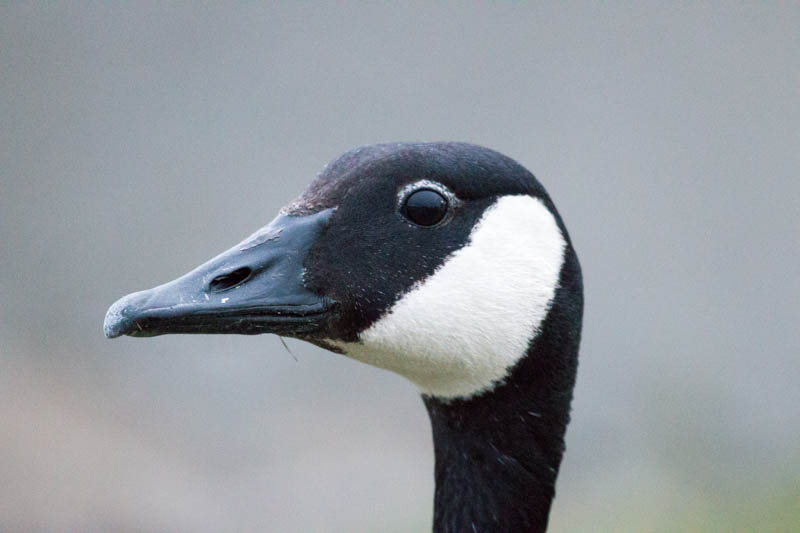goose-head: (102, 141, 585, 408)
